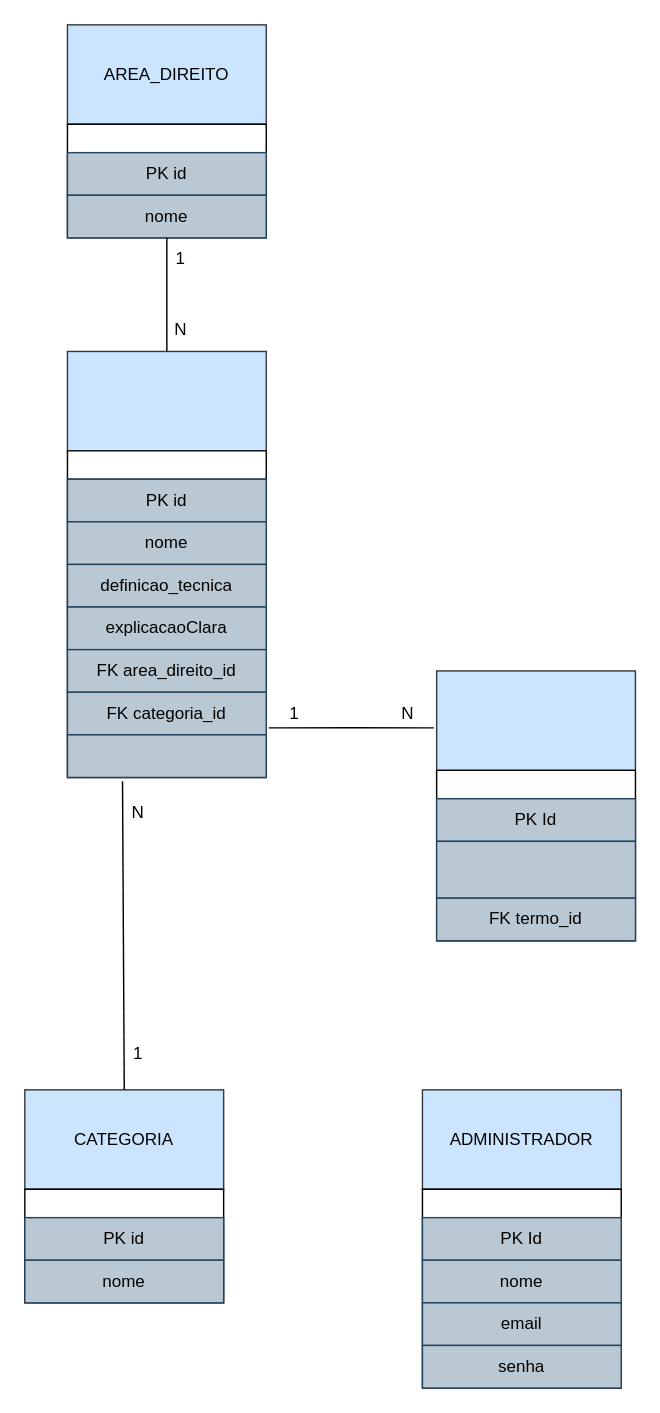
The diagram is 660 pixels wide and 1413 high, and some of its shapes have lost their labels. Each missing label, with the centre of its shape:
EXEMPLO: the point at 535,720
fonte: the point at 166,755
TERMO: the point at 166,400
texto: the point at 535,869
